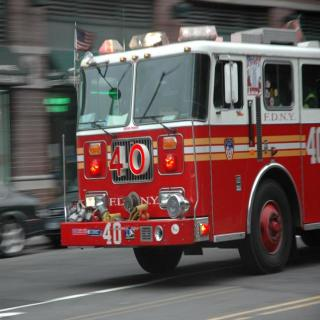Fire_truck: (59, 21, 320, 275)
